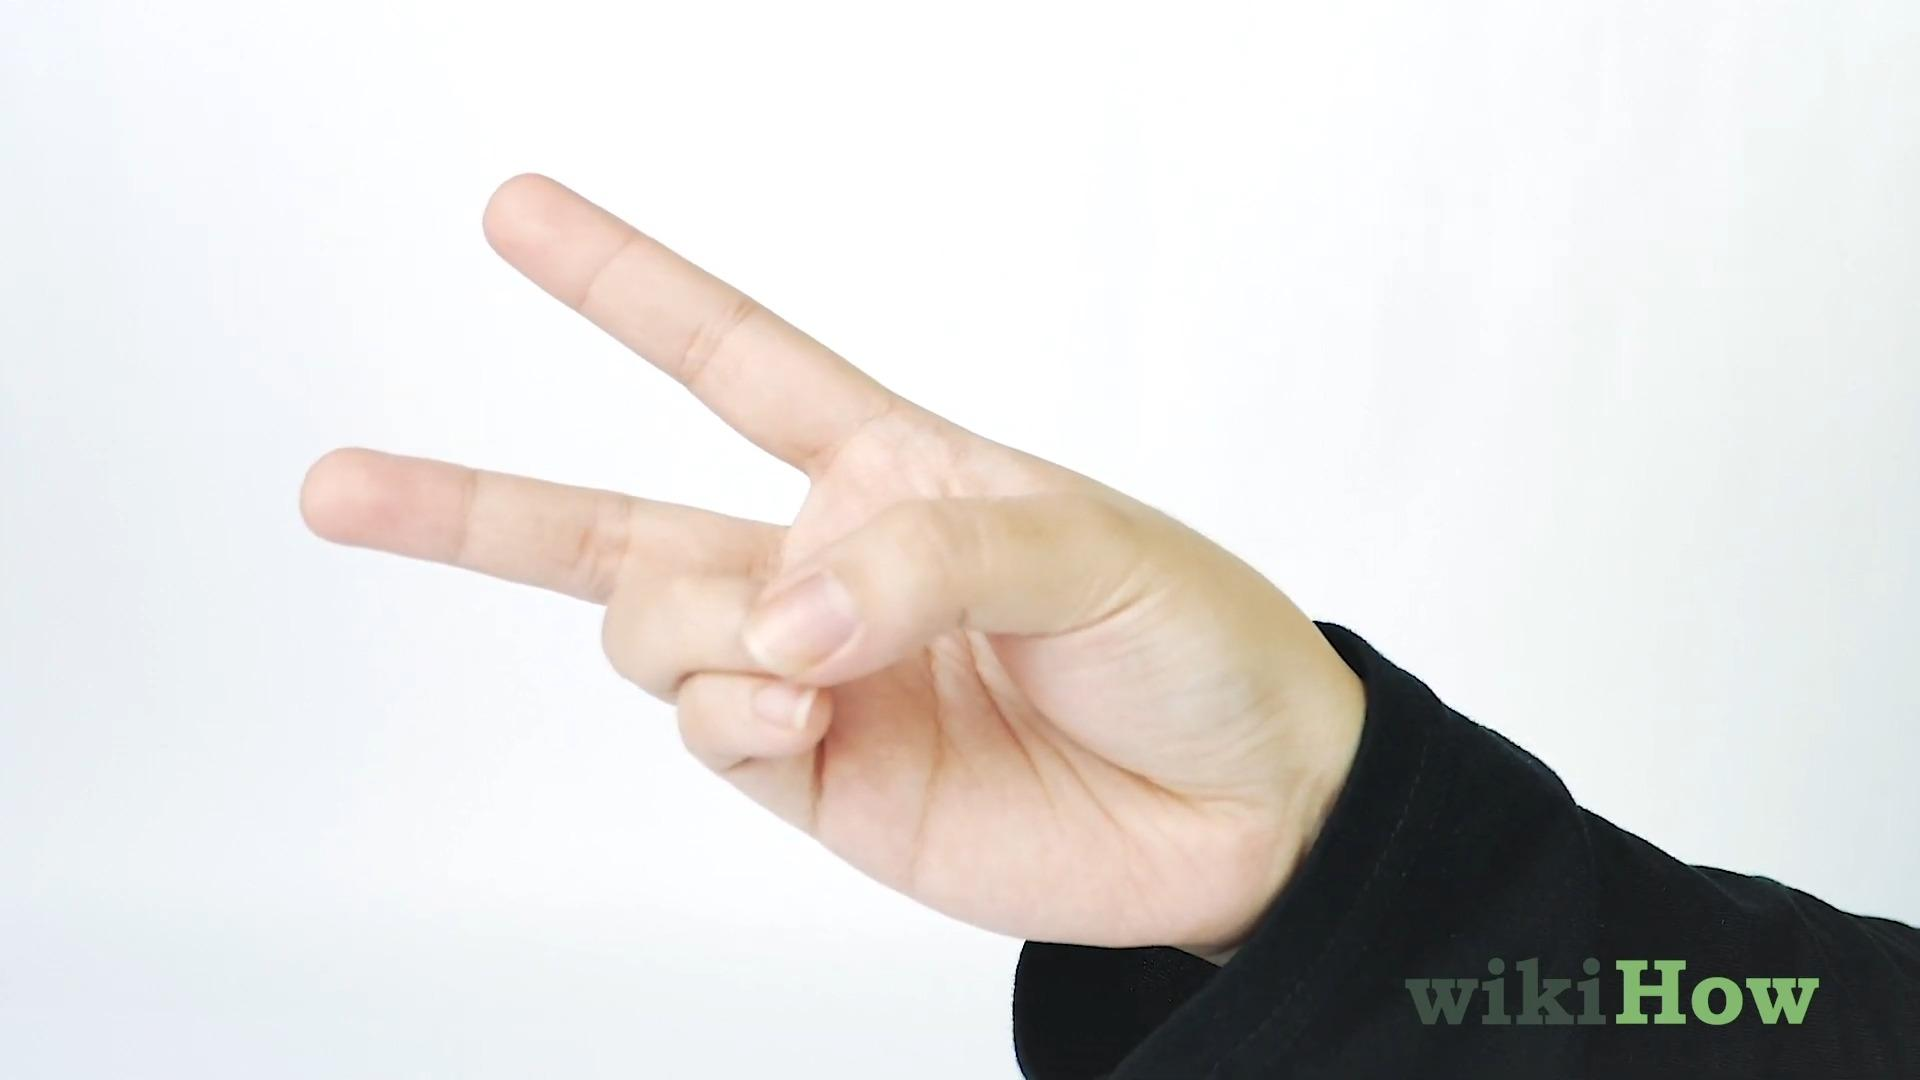Scissors: (291, 174, 1344, 957)
